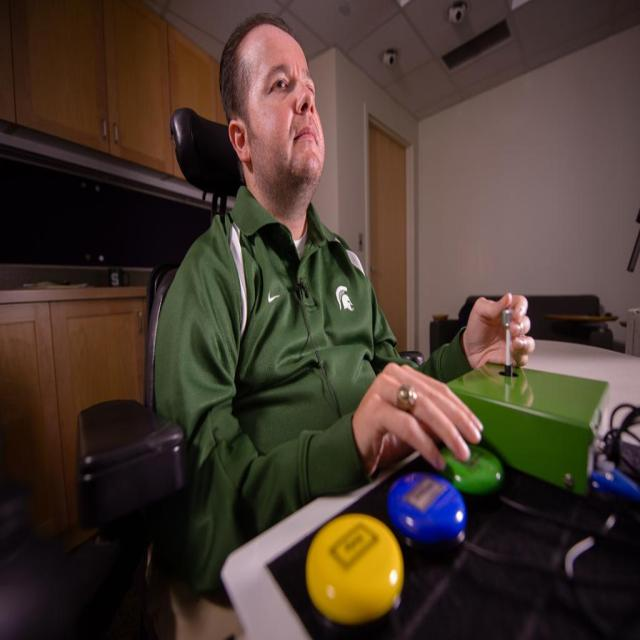Face: (247, 17, 332, 193)
